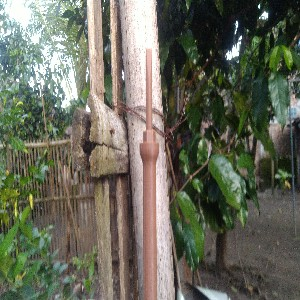obeng: (138, 47, 160, 300)
